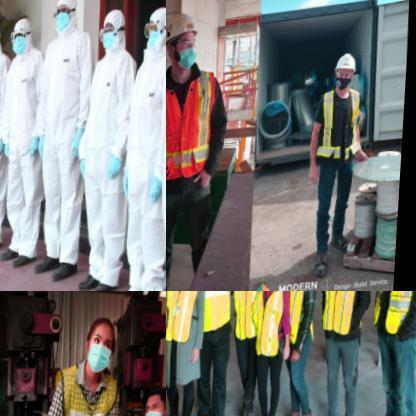vest: (33, 31, 101, 256), (80, 50, 144, 274), (124, 51, 165, 290), (0, 54, 49, 247), (166, 71, 223, 191), (49, 359, 123, 415), (320, 91, 365, 167), (0, 57, 17, 236), (253, 291, 291, 368), (322, 291, 368, 351), (166, 291, 207, 351), (373, 291, 415, 346), (284, 291, 318, 355), (197, 291, 240, 341), (233, 291, 268, 349), (166, 291, 176, 385)
